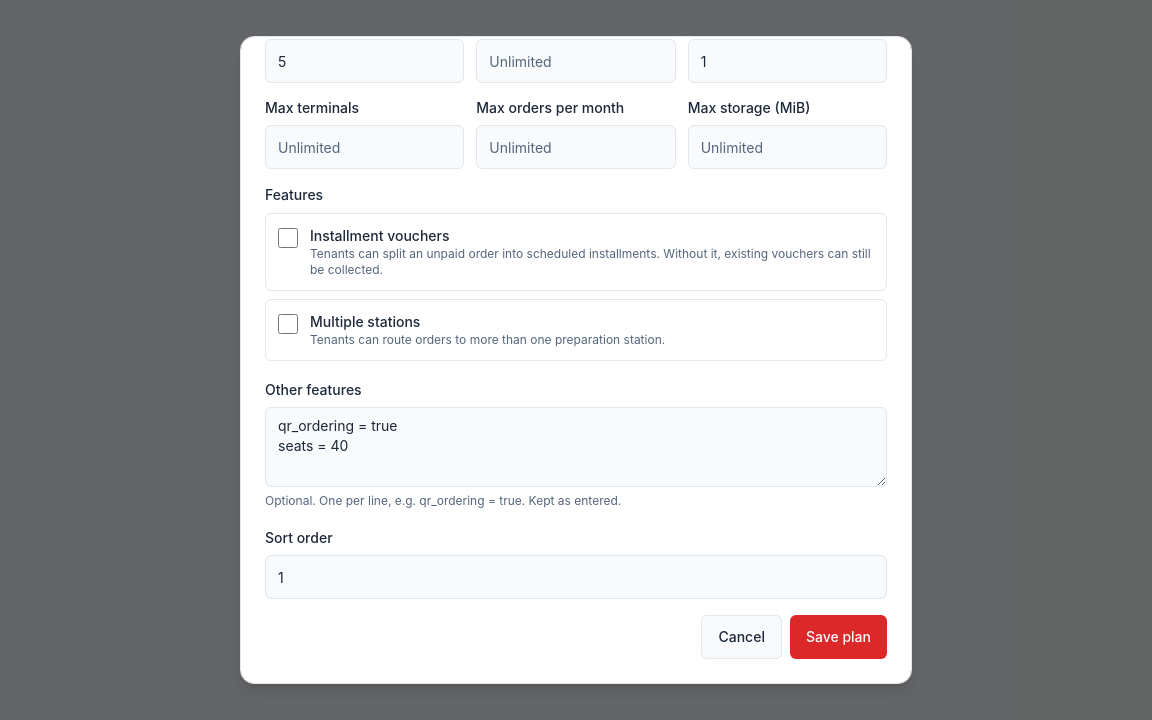
it: plan form features › refuses a known feature typed into the free-form list
(page scrolled)
Replace the text in the text box labelled "Other features" with "installments = true" at (576,447), box [265,407,887,487]
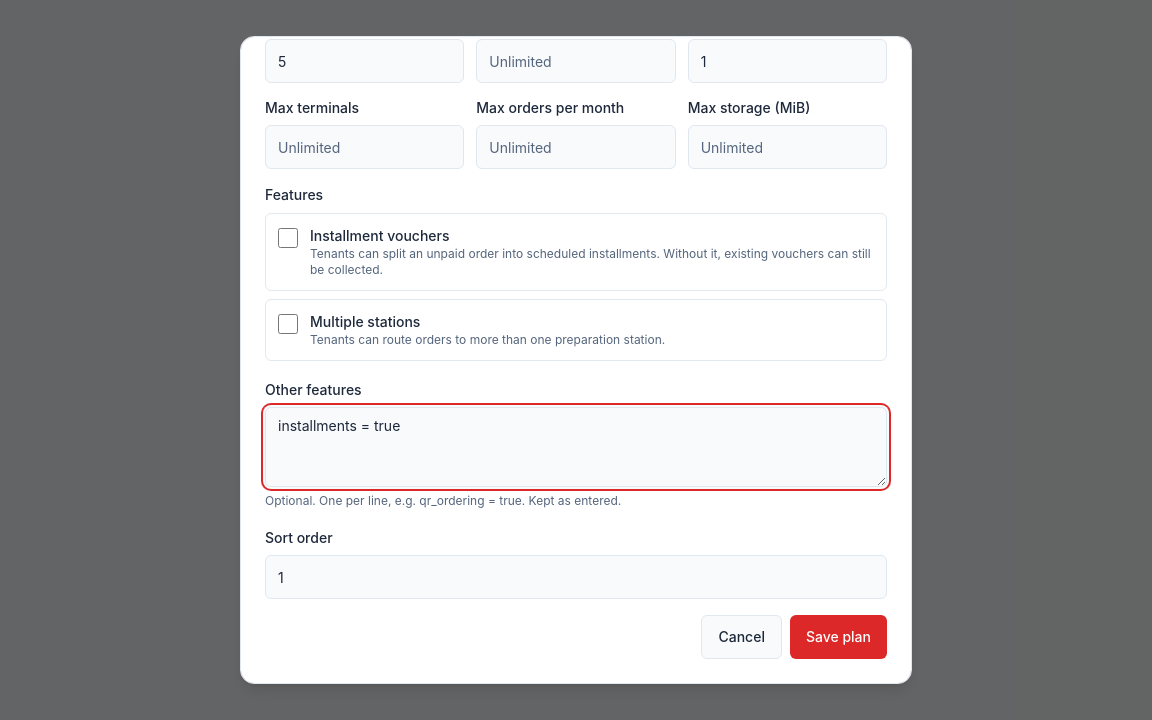
Click the button "Save plan" at (838,637), box [790,615,887,659]
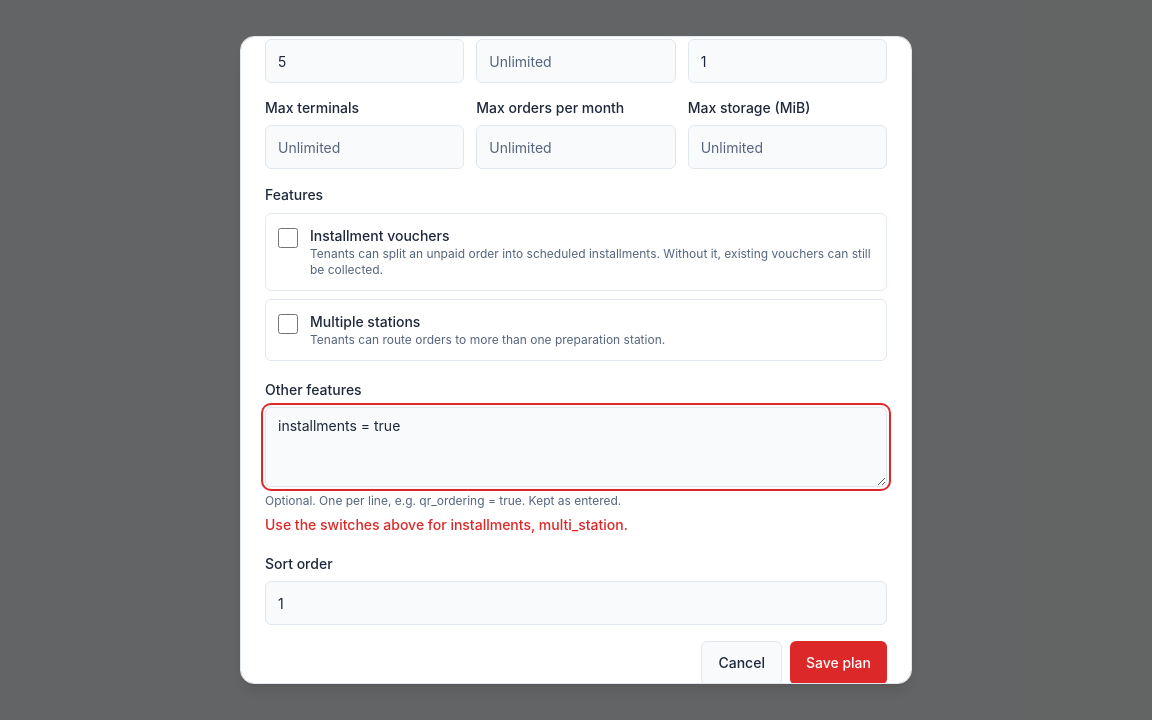
Expected: the text "Use the switches above for installments, multi_station." is shown, [265,516,628,533]
